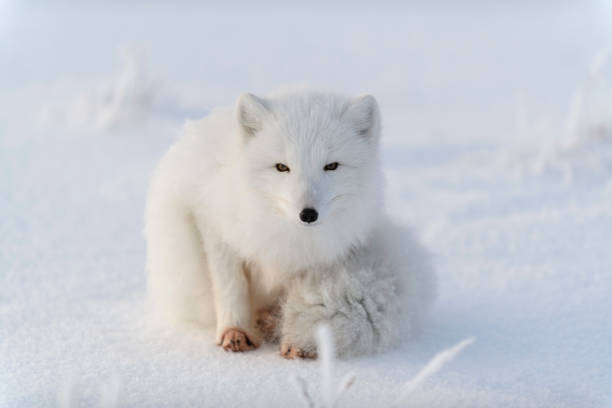arcticfox: (237, 89, 352, 248)
